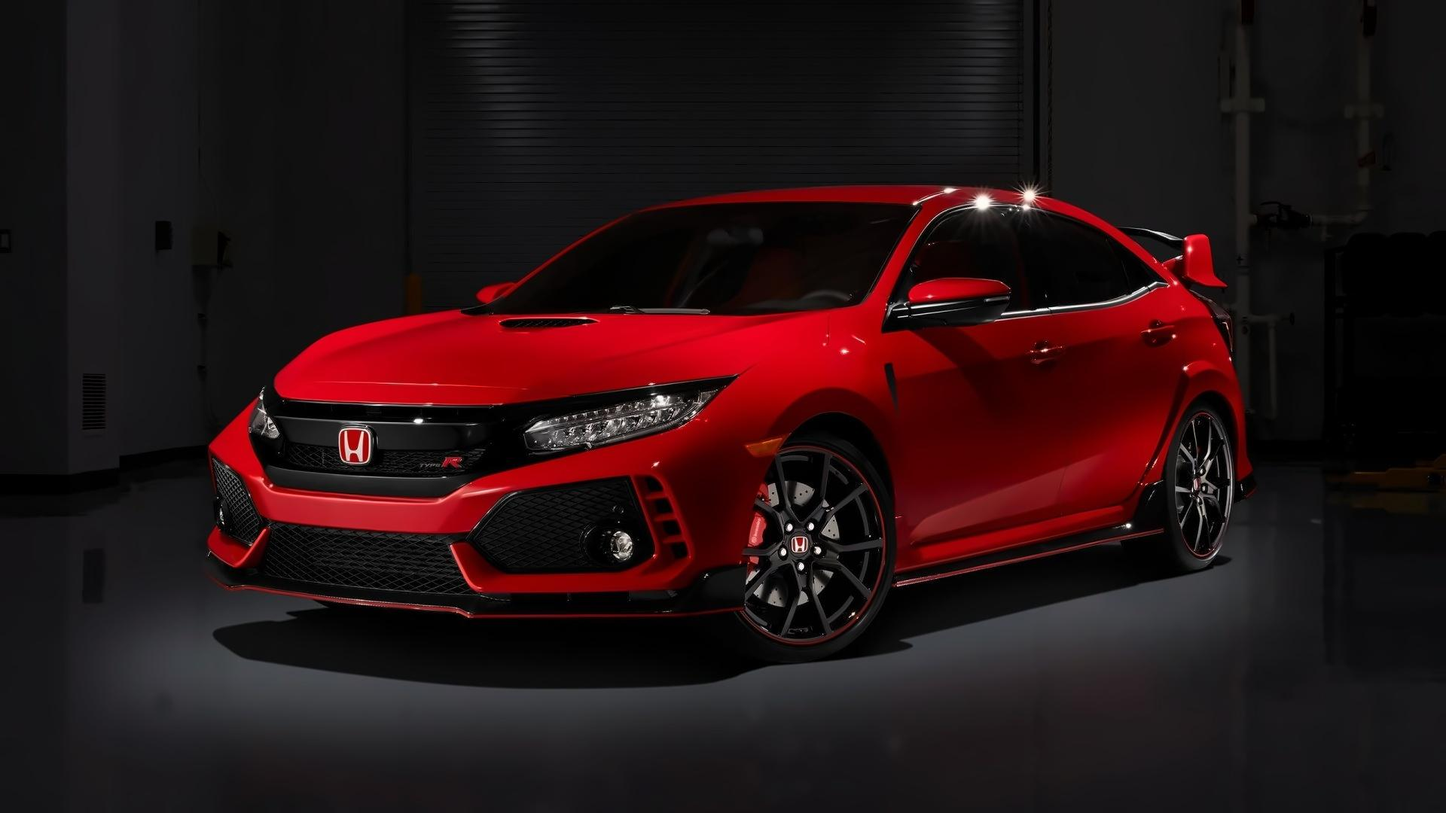Car hood: (267, 298, 839, 418)
Fender - -F-L-: (694, 301, 913, 542)
Fender - -R-L-: (1140, 286, 1230, 502)
Front bumper: (196, 426, 761, 624)
Headlight - -L-: (512, 366, 740, 466)
Headlight - -R-: (237, 380, 290, 442)
Passenger-s door - -F-L-: (907, 192, 1070, 557)
Passenger-s door - -R-L-: (1058, 191, 1187, 549)
Rear bumper: (1225, 387, 1267, 515)
Rear light - -L-: (1186, 282, 1251, 364)
Side bumper - -L-: (883, 475, 1180, 593)
Side mirror - -L-: (875, 265, 1017, 337)
Side mirror - -R-: (470, 256, 529, 321)
